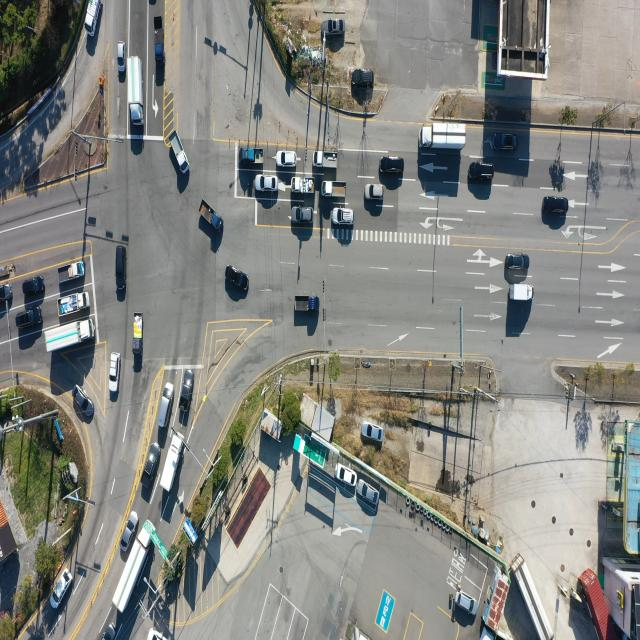car: (52, 569, 74, 610), (121, 509, 139, 551), (156, 381, 172, 426), (179, 368, 194, 416), (73, 386, 94, 420), (227, 266, 250, 293), (16, 308, 44, 330), (144, 442, 160, 480), (455, 590, 478, 616), (544, 196, 573, 216), (336, 462, 358, 486), (358, 481, 378, 507), (115, 246, 126, 293), (468, 162, 493, 182), (492, 133, 518, 152), (378, 155, 402, 175), (23, 276, 46, 296), (506, 253, 531, 271), (109, 353, 120, 393), (96, 619, 116, 640), (351, 68, 373, 87), (363, 423, 384, 442), (257, 175, 279, 193), (326, 17, 348, 35), (333, 208, 356, 225), (276, 150, 296, 167), (292, 207, 312, 224), (366, 183, 385, 200), (0, 283, 13, 303), (117, 43, 125, 74), (146, 628, 163, 640)
medium_truck: (115, 518, 156, 614), (518, 553, 556, 638), (45, 316, 95, 356), (158, 434, 184, 495), (421, 125, 466, 151), (130, 54, 146, 124)
small_truck: (172, 130, 192, 174), (200, 198, 224, 231), (60, 290, 91, 314), (57, 261, 86, 285), (83, 0, 100, 35), (321, 179, 347, 199), (293, 296, 318, 315), (313, 152, 339, 170), (510, 284, 535, 302), (154, 15, 164, 60), (133, 312, 143, 354), (240, 146, 264, 163), (292, 179, 314, 197)
